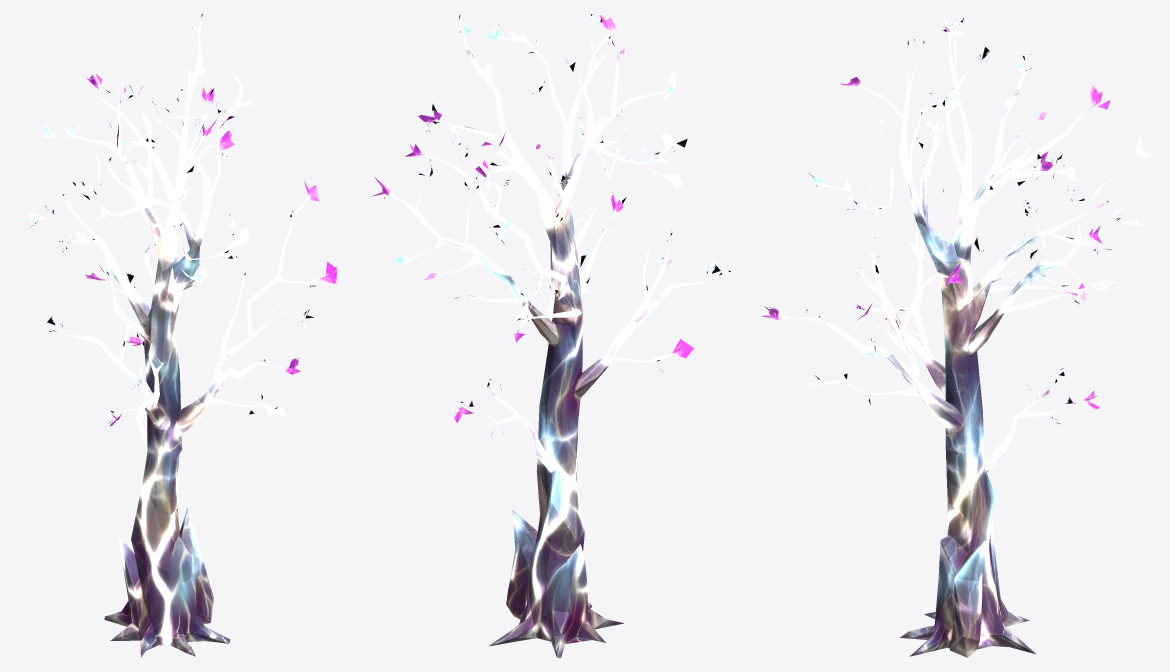
File: Tree_of_Light.fbx
The picture shows the model from 3 angles, left to right: view 1: azimuth 30°, elevation 25°; view 2: azimuth 150°, elevation 25°; view 3: azimuth 270°, elevation 25°; orthographic projection. The views are drawn at different scales.
Visible parts, largest first — view 1: Tree_of_Light_LOD0; view 2: Tree_of_Light_LOD0; view 3: Tree_of_Light_LOD0.
Boxes of the visible parts, left/top/right/bottom form: Tree_of_Light_LOD0: left=22, top=14, right=337, bottom=657; Tree_of_Light_LOD0: left=371, top=14, right=730, bottom=657; Tree_of_Light_LOD0: left=761, top=16, right=1154, bottom=657.
Size of what is drawn, in the model's own units: 0.9737 by 1.9 by 1.1.
Materials: 1 (1 with a texture image).
